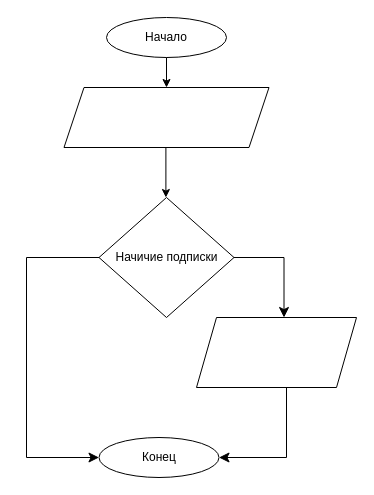
This 374x495 diagram has some shape labels left out. Each missing label, with the box of its shape:
Выводим рекламу: (196, 316, 356, 388)
Приветствие Вывести: Здравствуйте, Name: (63, 86, 269, 148)
